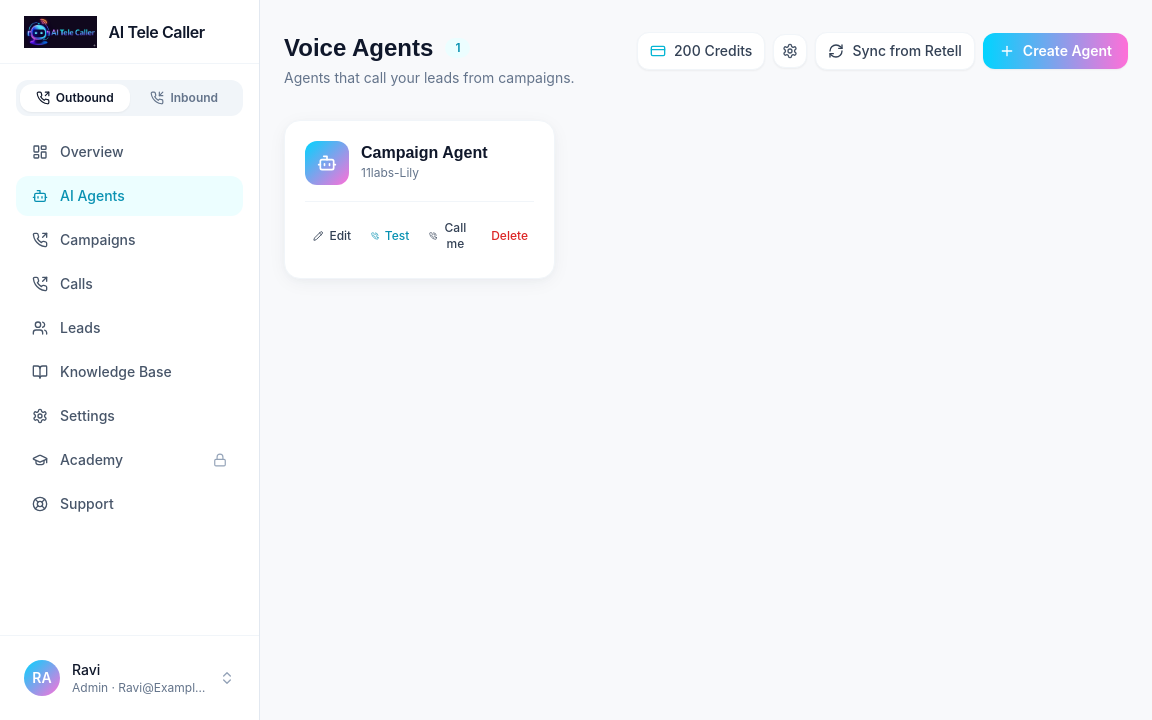
Scenario: hearing an agent on a real phone › warns that it costs a credit
expect the heading "Campaign Agent" is shown: met, box [361, 144, 488, 161]
Click the button "Call me" at [448, 236], box [421, 214, 476, 258]
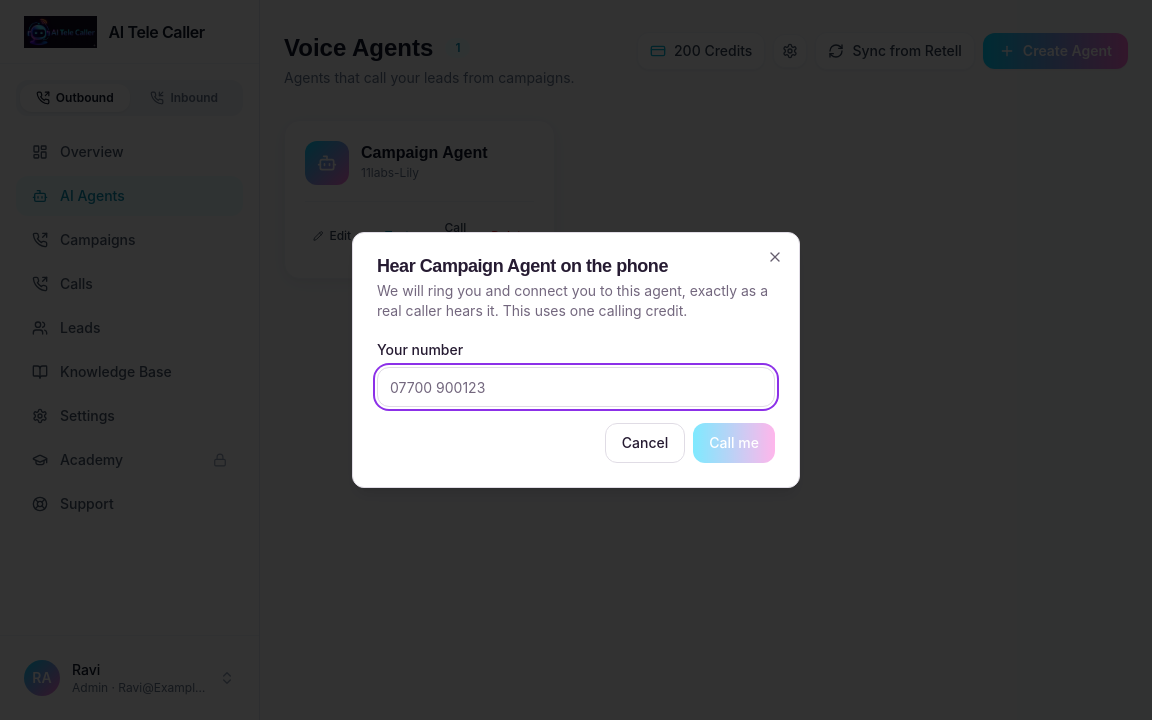
expect the text "one calling credit" is shown: met, box [377, 282, 768, 319]
